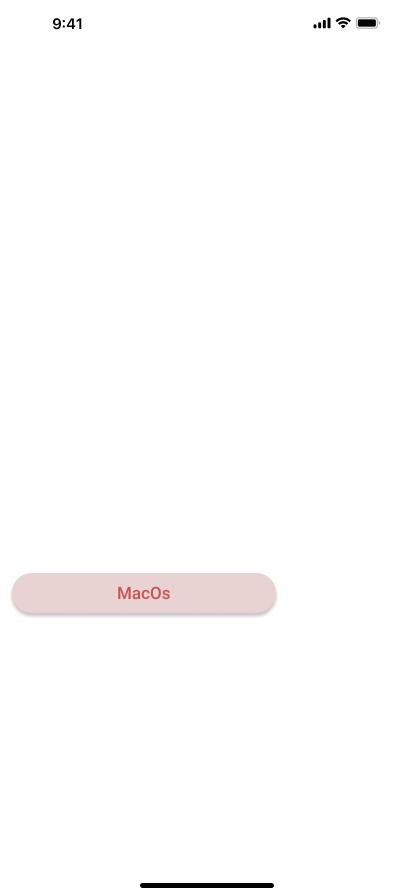Buttons: (8, 572, 284, 620)
Home Indicator: (0, 862, 414, 896)
Status Bar: (0, 0, 414, 44)
